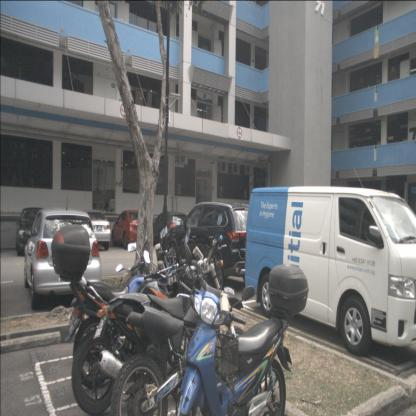vehicle-car: (244, 186, 416, 356), (167, 202, 261, 292), (24, 208, 102, 310), (150, 211, 188, 252), (112, 209, 150, 250), (16, 208, 48, 256), (74, 210, 111, 250)
vehicle-motorcycle: (93, 214, 248, 416), (51, 224, 201, 415), (176, 244, 309, 416)
